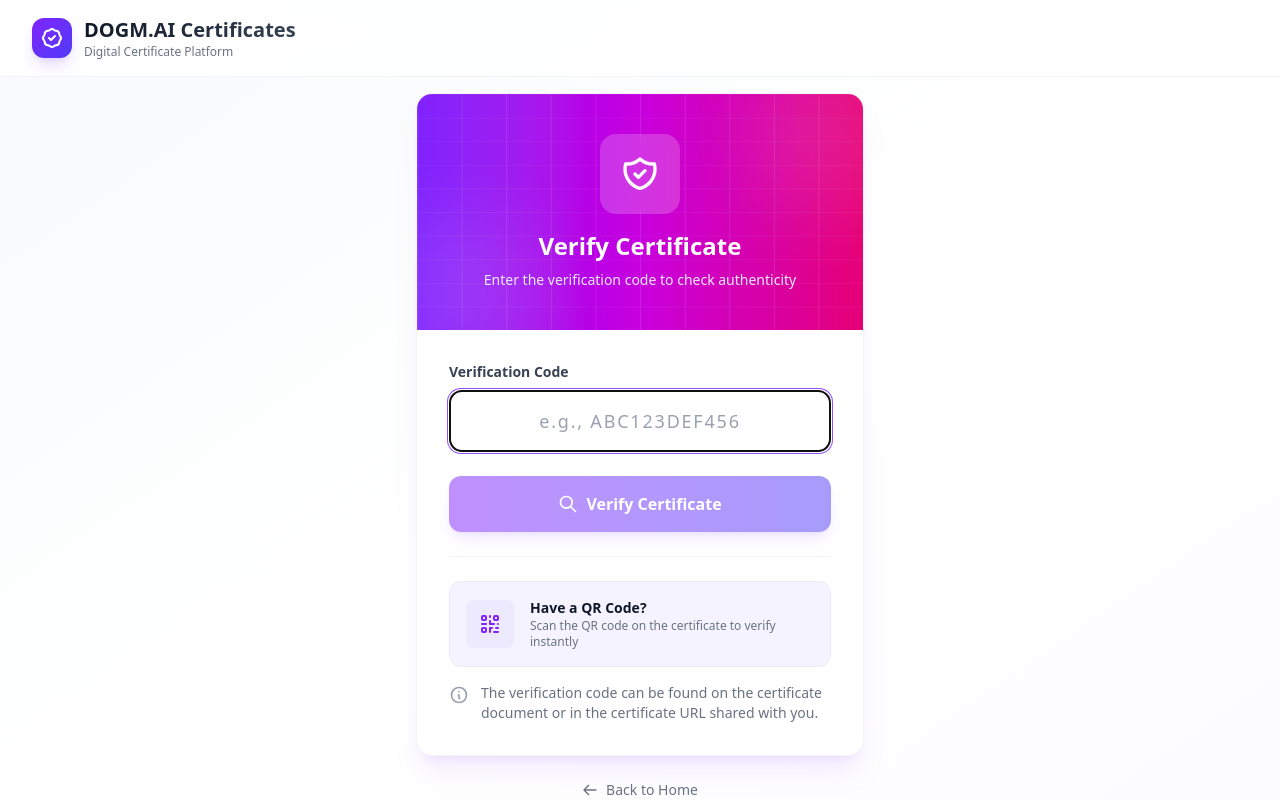
Scenario: VerifyPage › shows loading state when submitting
Type "TEST123" into the field with placeholder "e.g., ABC123DEF456" at (640, 421), box x1=449 y1=390 x2=831 y2=452
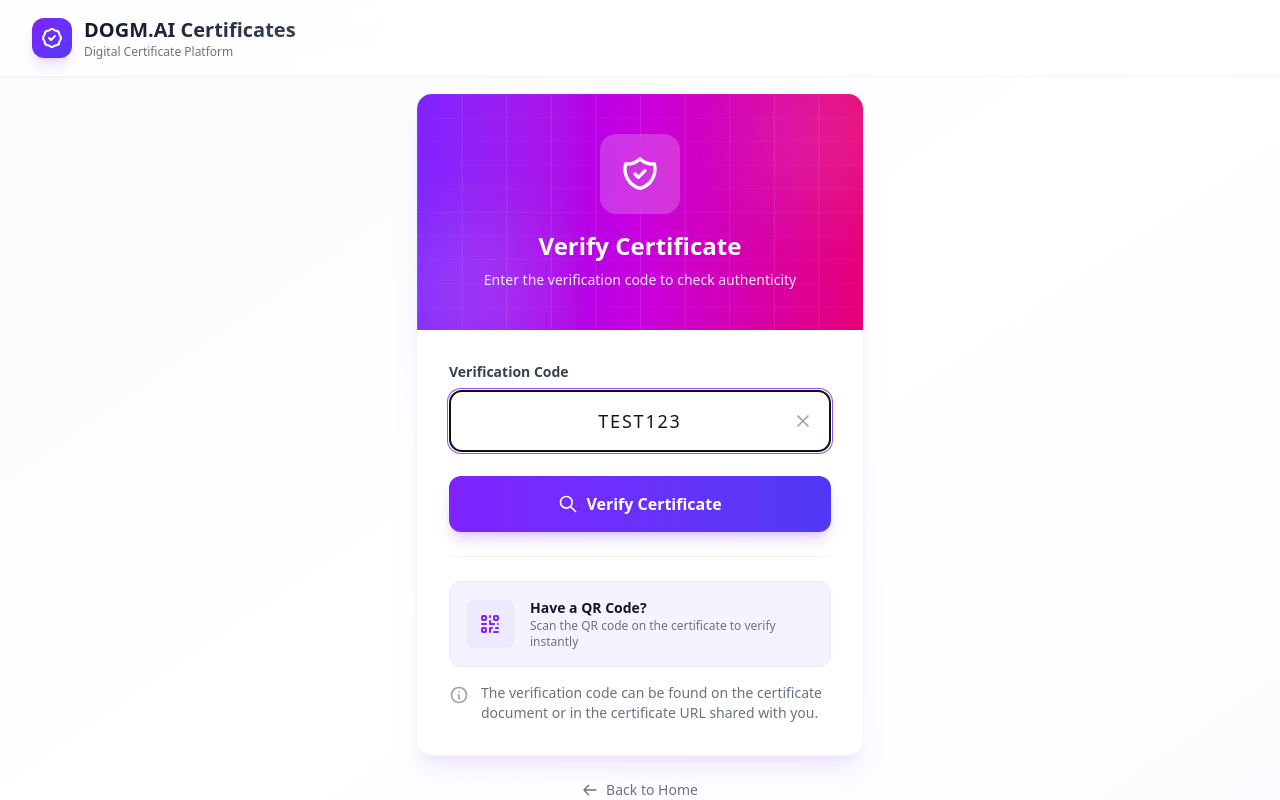
Click the button "Verify Certificate" at (640, 504), box x1=449 y1=476 x2=831 y2=532
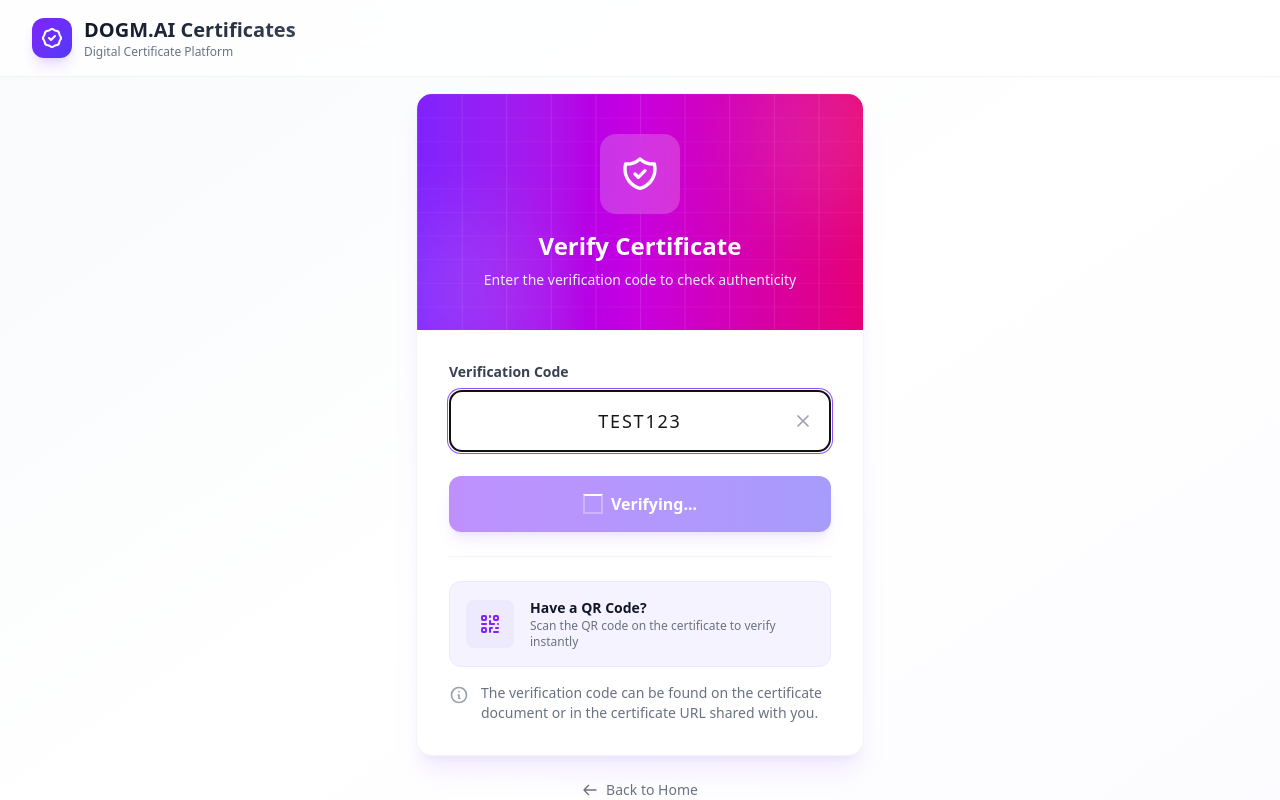
Expected: the text "Verifying..." is shown, x1=611 y1=492 x2=697 y2=516
